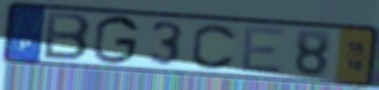3: (146, 20, 184, 67)
8: (292, 28, 332, 78)
B: (41, 10, 94, 63)
C: (189, 22, 239, 72)
E: (238, 25, 287, 76)
G: (91, 14, 142, 66)
